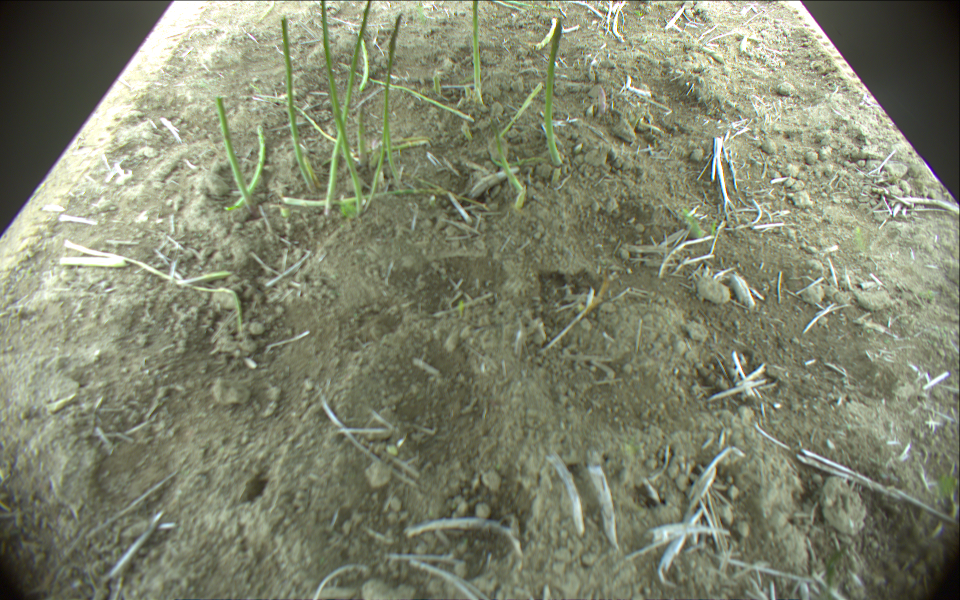aspa: (323, 1, 371, 216), (320, 1, 366, 207), (337, 61, 473, 121), (282, 20, 315, 189), (217, 97, 254, 209), (380, 12, 404, 180), (283, 189, 485, 206), (495, 81, 542, 141), (233, 124, 264, 211), (545, 22, 563, 168), (491, 125, 522, 208), (470, 1, 483, 103), (532, 18, 557, 51), (357, 105, 368, 164), (375, 141, 428, 153), (358, 37, 368, 91), (503, 1, 562, 10)
